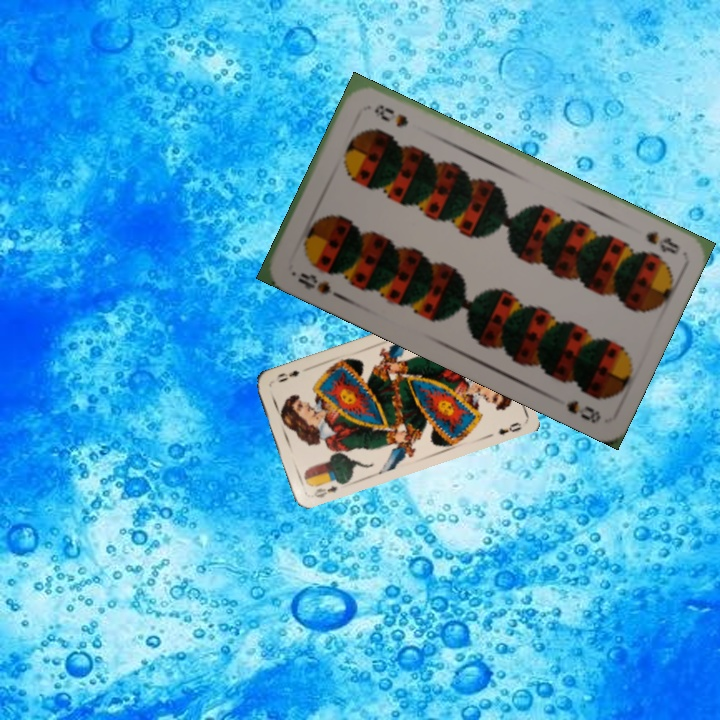EO: (310, 481, 339, 500)
S8: (293, 268, 341, 300), (642, 227, 683, 257)
